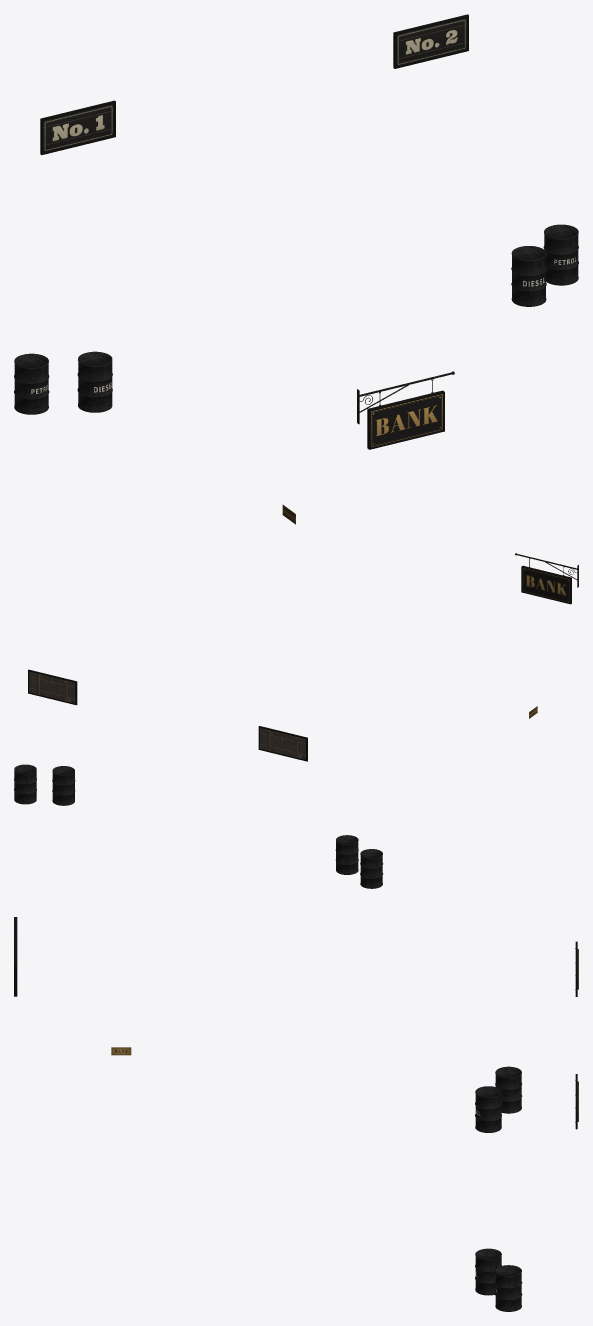
File: works-signs.glb
The picture shows the model from 3 angles, top to bottom: view 1: azimuth 30°, elevation 25°; view 2: azimuth 150°, elevation 25°; view 3: azimuth 270°, elevation 25°; orthographic projection. The views are drawn at different scales.
Visible parts, largest first — view 1: bank-sign-board, gate-board-no-1-body, gate-board-no-2-body, steel-drum-petrol-body, steel-drum-diesel-body, steel-drum-diesel-body.001, steel-drum-petrol-body.001; view 2: bank-sign-board, gate-board-no-1-body, gate-board-no-2-body, steel-drum-diesel-body, steel-drum-diesel-body.001, steel-drum-petrol-body, steel-drum-petrol-body.001; view 3: steel-drum-petrol-body.001, steel-drum-diesel-body, steel-drum-petrol-body, steel-drum-diesel-body.001.
Boxes of the visible parts, x1=… form: bank-sign-board: x1=367, y1=390, x2=444, y2=449; gate-board-no-1-body: x1=40, y1=100, x2=115, y2=155; gate-board-no-2-body: x1=393, y1=14, x2=468, y2=68; steel-drum-petrol-body: x1=14, y1=353, x2=49, y2=414; steel-drum-diesel-body: x1=77, y1=351, x2=112, y2=412; steel-drum-diesel-body.001: x1=511, y1=246, x2=546, y2=306; steel-drum-petrol-body.001: x1=543, y1=224, x2=578, y2=285; bank-sign-board: x1=521, y1=565, x2=571, y2=604; gate-board-no-1-body: x1=258, y1=726, x2=307, y2=761; gate-board-no-2-body: x1=28, y1=669, x2=77, y2=705; steel-drum-diesel-body: x1=335, y1=835, x2=358, y2=874; steel-drum-diesel-body.001: x1=52, y1=766, x2=75, y2=805; steel-drum-petrol-body: x1=360, y1=849, x2=383, y2=888; steel-drum-petrol-body.001: x1=14, y1=764, x2=36, y2=804; steel-drum-petrol-body.001: x1=495, y1=1265, x2=522, y2=1311; steel-drum-diesel-body: x1=475, y1=1086, x2=501, y2=1132; steel-drum-petrol-body: x1=495, y1=1066, x2=522, y2=1113; steel-drum-diesel-body.001: x1=475, y1=1248, x2=501, y2=1295.
Bounding box in the file's own units: 11.11 × 4.78 × 12.64.
11 materials, 11 textured.
